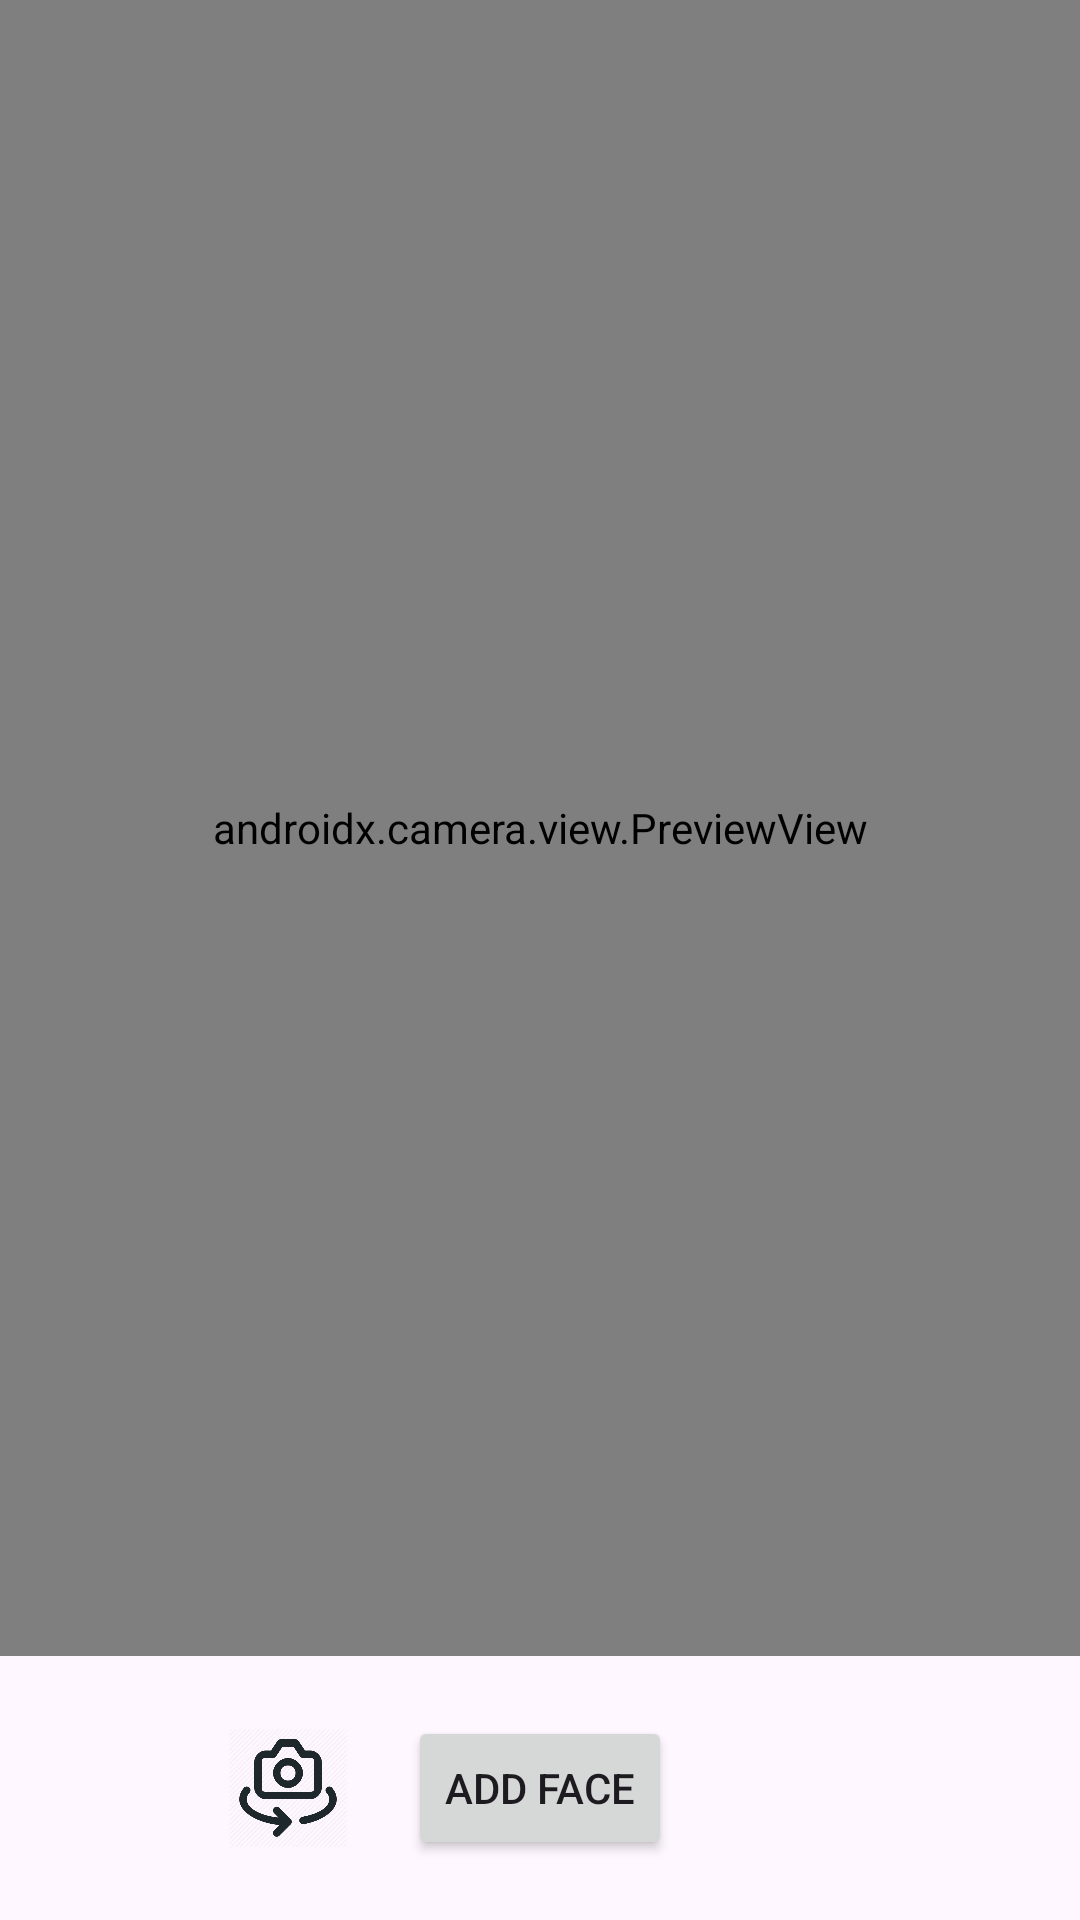

Icon click points for this 1080x1920 phone screenshot, format (x,y):
switch camera: (288,1788)
